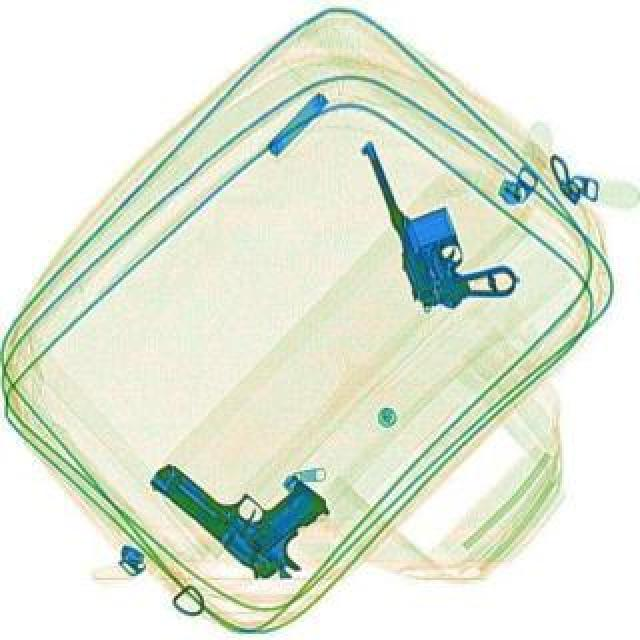gun: (140, 410, 346, 592), (358, 110, 518, 318)
